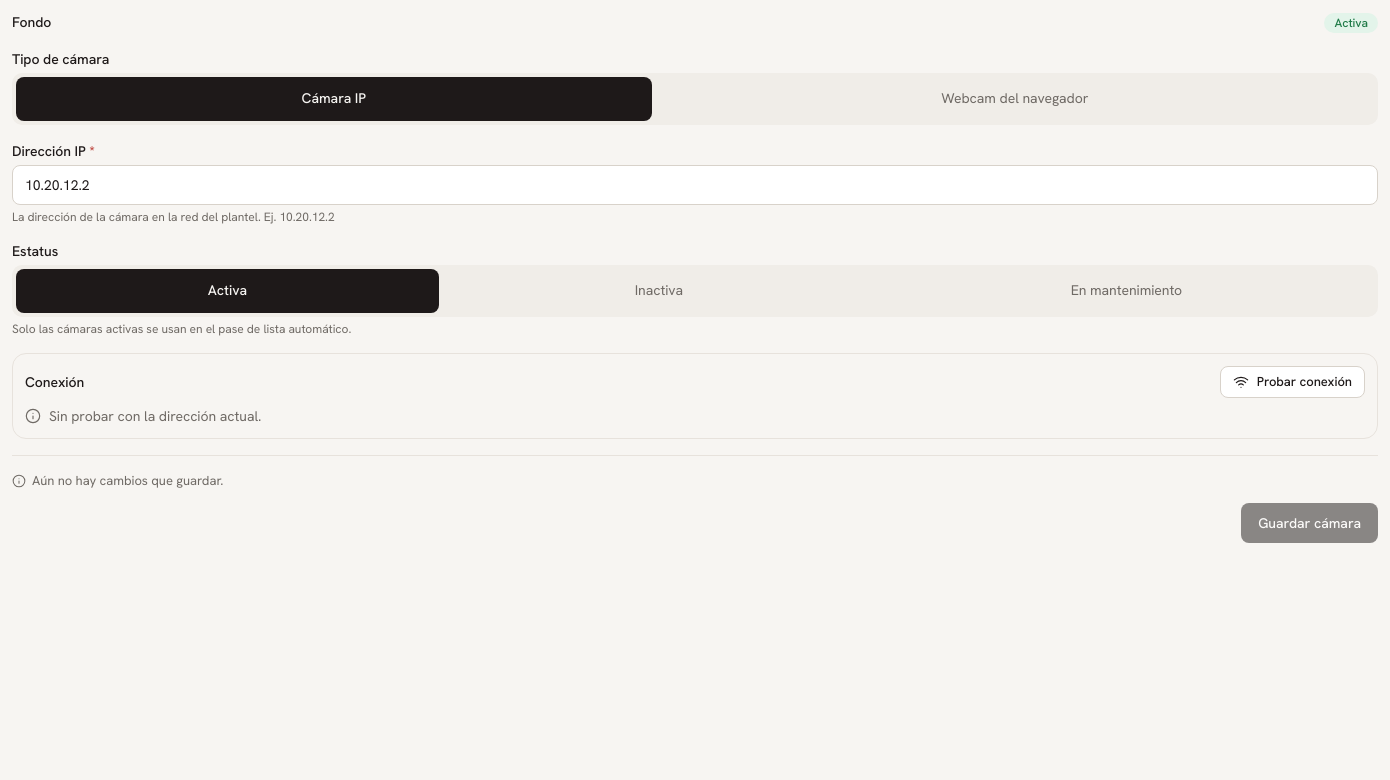
Test case: CamaraForm › «Probar conexión» deja el resultado a la vista con su hora (no solo un aviso que se va)
The image size is (1390, 780).
Step 1. Click the button "Probar conexión" → (1292, 382), box [1220,366,1365,398]
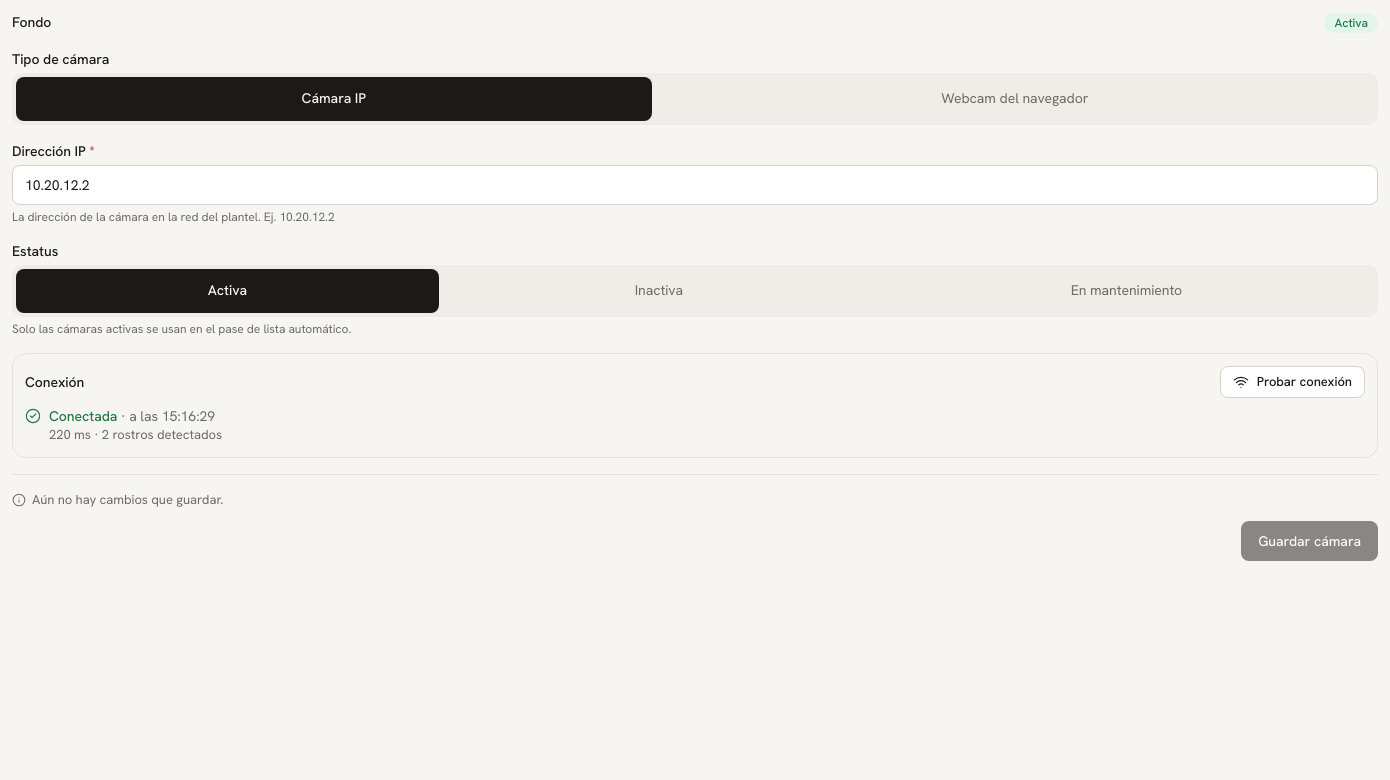
Expected: the text "Conectada" is shown, [49,407,117,425]
Expected: the text "· a las 15:16:29" is shown, [117,407,215,425]
Expected: the text "220 ms · 2 rostros detectados" is shown, [49,426,222,445]
